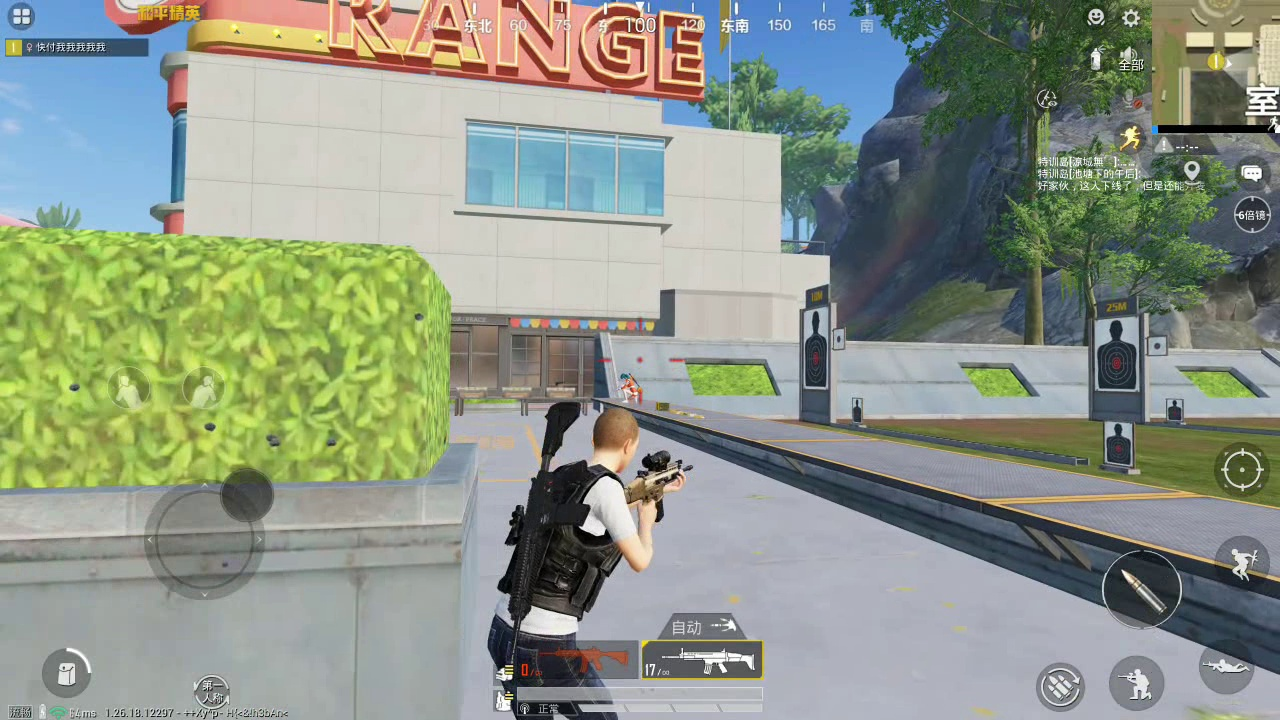enemy: (618, 371, 642, 402)
